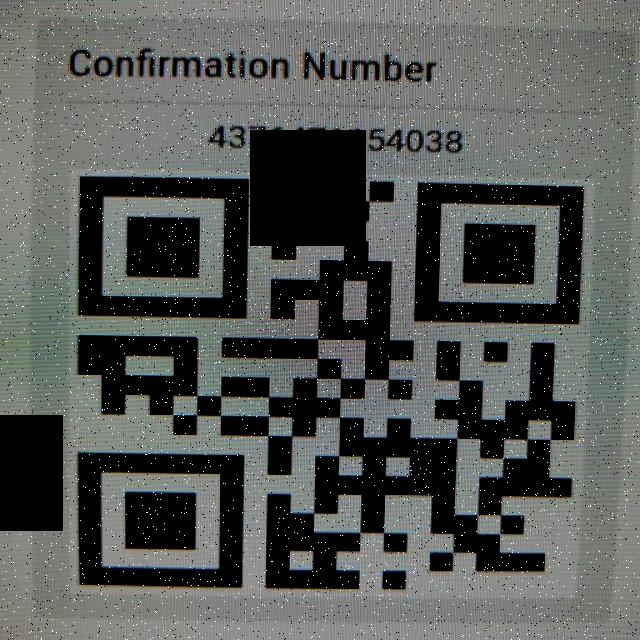QR_CODE: (63, 155, 586, 595)
